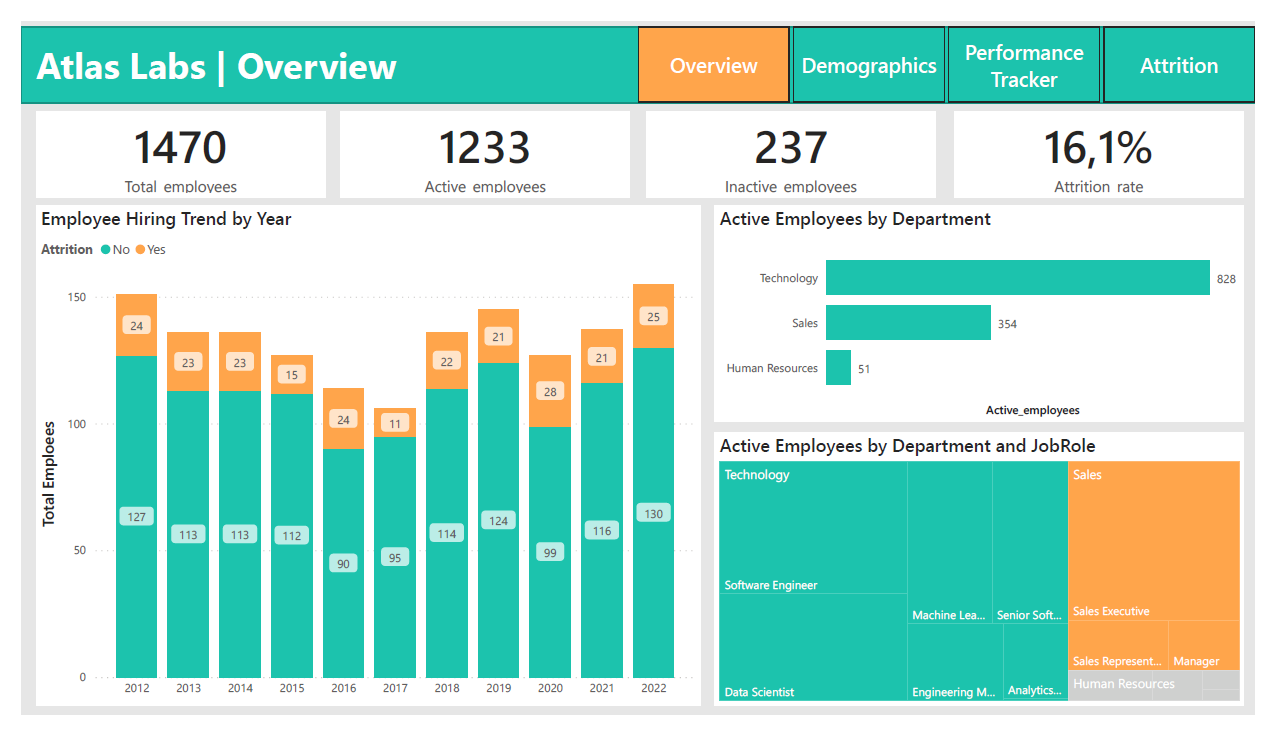

What the dashboard file says about the page in this screenshot:
{"tool":"powerbi","page":{"name":"Overview","canvas":[1280,720],"ordinal":0},"visuals":[{"type":"card","fields":{"Values":["_Measures.TotalEmployess"]},"box":[15.7,94.3,300,88.6],"z":0},{"type":"card","fields":{"Values":["_Measures.Active_employees"]},"box":[331.4,94.3,300,88.6],"z":1000},{"type":"card","fields":{"Values":["_Measures.Inactive_employees"]},"box":[648.6,94.3,300,88.6],"z":2000},{"type":"card","fields":{"Values":["_Measures.Attrition_rate"]},"box":[968.6,94.3,300,88.6],"z":3000},{"type":"lineStackedColumnComboChart","title":"Employee Hiring Trend by Year","fields":{"Category":["Calendar.Date.Variation.Date Hierarchy.Year","Calendar.Date.Variation.Date Hierarchy.Quarter","Calendar.Date.Variation.Date Hierarchy.Month","Calendar.Date.Variation.Date Hierarchy.Day"],"Y":["_Measures.Total_employees_date"],"Series":["Dim_Employee.Attrition"]},"box":[15.7,191.4,688.6,518.6],"z":4000},{"type":"clusteredBarChart","title":"Active Employees by Department","fields":{"Category":["Dim_Employee.Department"],"Y":["_Measures.Active_employees"]},"box":[720,191.4,548.6,224.3],"z":5000},{"type":"treemap","title":"Active Employees by Department and JobRole","fields":{"Group":["Dim_Employee.Department"],"Values":["_Measures.Active_employees"],"Details":["Dim_Employee.JobRole"]},"box":[720,427.1,548.6,282.9],"z":6000},{"type":"shape","title":"Atlas Labs | Performance Tracker","box":[0,5.7,1280,78.6],"z":6001},{"type":"pageNavigator","box":[640,5.7,640,78.6],"z":6002}]}

Visuals, with their boxes in screenshot pixels (x1, y1, x2, y2), scaled from the page's 1280x720 canvas onto the 1275x737 screenshot:
card - _Measures.TotalEmployess: x1=16 y1=97 x2=314 y2=187
card - _Measures.Active_employees: x1=330 y1=97 x2=629 y2=187
card - _Measures.Inactive_employees: x1=646 y1=97 x2=945 y2=187
card - _Measures.Attrition_rate: x1=965 y1=97 x2=1264 y2=187
"Employee Hiring Trend by Year" lineStackedColumnComboChart: x1=16 y1=196 x2=702 y2=727
"Active Employees by Department" clusteredBarChart: x1=717 y1=196 x2=1264 y2=426
"Active Employees by Department and JobRole" treemap: x1=717 y1=437 x2=1264 y2=727
"Atlas Labs | Performance Tracker" shape: x1=0 y1=6 x2=1274 y2=86
pageNavigator: x1=638 y1=6 x2=1274 y2=86
